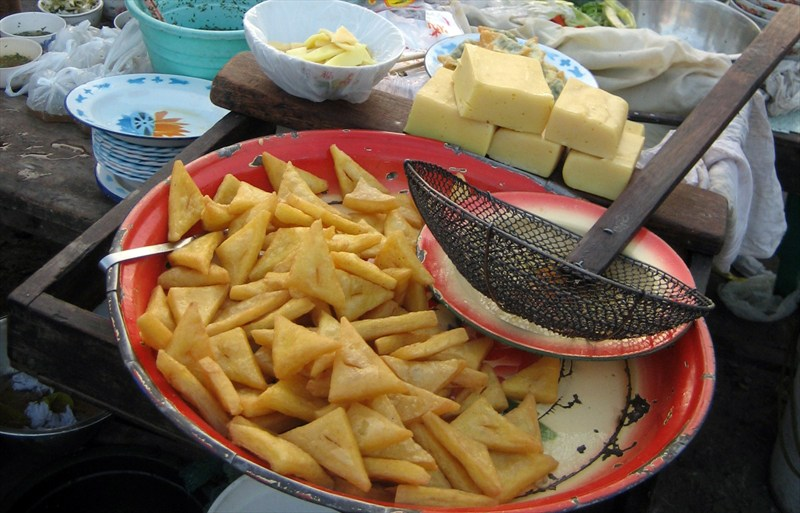Tahu Goreng: (97, 16, 683, 445)
